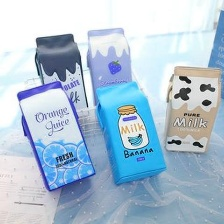carton: (12, 79, 99, 194), (90, 79, 168, 188), (162, 61, 224, 157), (28, 24, 90, 114), (83, 21, 135, 106)
